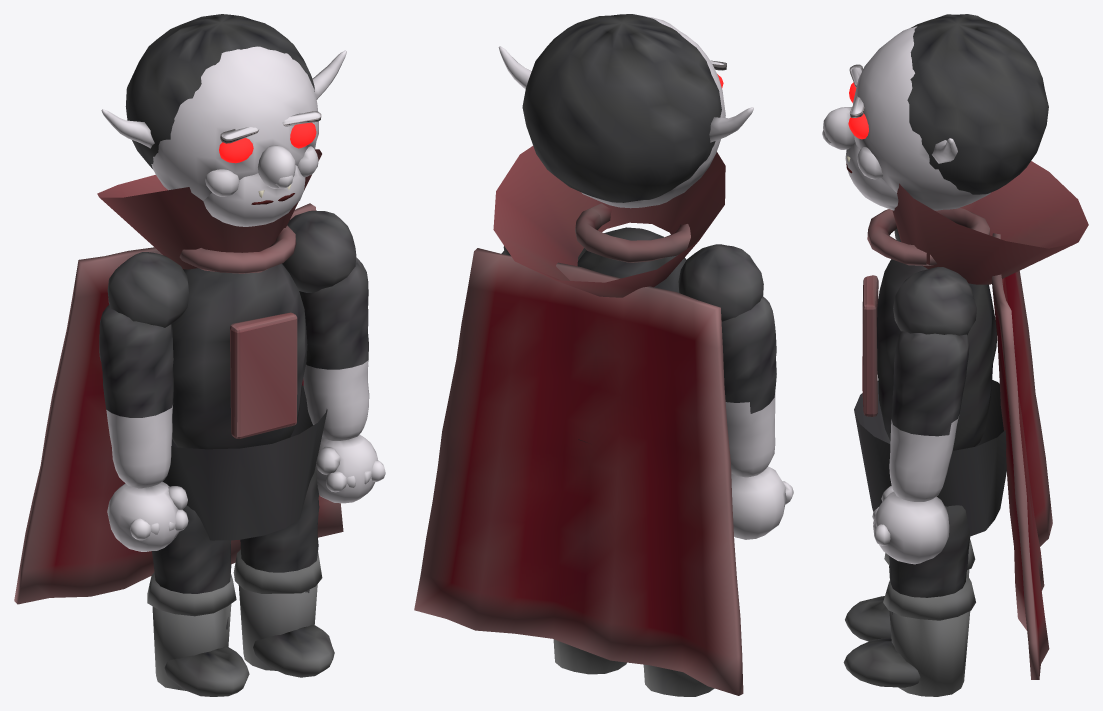
3 views of the same model, side by side, from view 1: azimuth 30°, elevation 25°; view 2: azimuth 150°, elevation 25°; view 3: azimuth 270°, elevation 25° (orthographic). The views are drawn at different scales.
Visible parts, largest first — view 1: torso, head, cape, armR, armL, legR, legL; view 2: cape, head, torso, armR, legR, legL; view 3: torso, head, armL, legL, cape, legR.
Part boxes in pixels (x1,y1,x2,y2): torso: (97, 149, 356, 540); head: (101, 14, 346, 226); cape: (14, 203, 343, 604); armR: (99, 305, 188, 551); armL: (299, 257, 385, 503); legR: (147, 506, 249, 696); legL: (233, 467, 334, 677); cape: (414, 248, 743, 695); head: (498, 14, 753, 208); torso: (493, 146, 763, 442); armR: (721, 296, 793, 539); legR: (643, 664, 714, 696); legL: (553, 639, 626, 674); torso: (854, 161, 1088, 536); head: (822, 14, 1048, 210); armL: (872, 331, 969, 564); legL: (843, 505, 975, 696); cape: (992, 233, 1052, 679); legR: (845, 539, 975, 641).
Size of the model in its own units: 0.5084 by 0.9659 by 0.3655.
